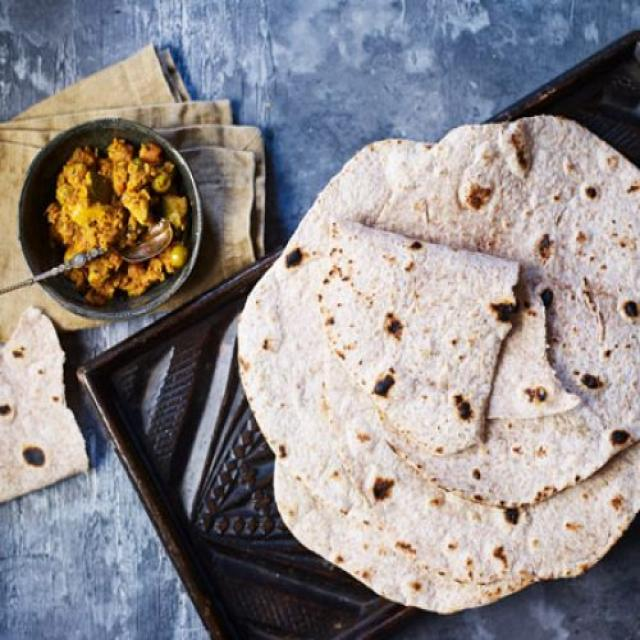roti: (230, 112, 640, 622), (0, 304, 92, 509)
